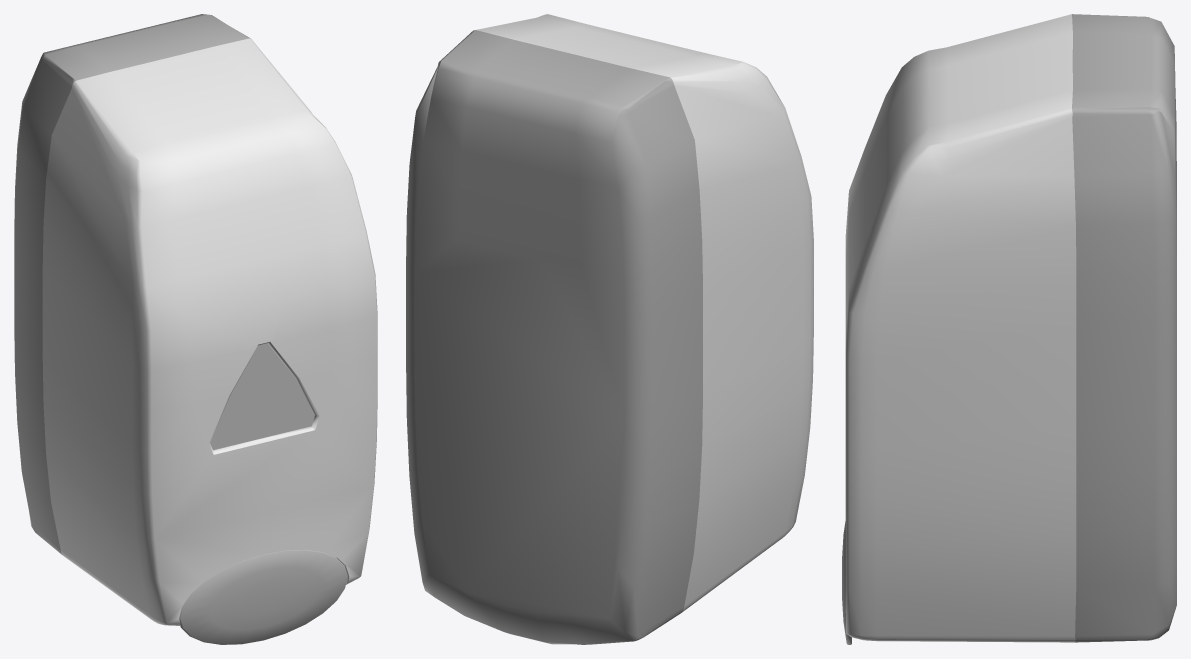
The model's file is SoapDispenser02.FBX.
3 renders of one model, left to right at view 1: azimuth 30°, elevation 25°; view 2: azimuth 150°, elevation 25°; view 3: azimuth 270°, elevation 25°, orthographic. The views are drawn at different scales.
Visible parts, largest first — view 1: SoapDispenser02; view 2: SoapDispenser02; view 3: SoapDispenser02.
Part boxes in pixels (box(x1,y1,x2,y2)): SoapDispenser02: box(14, 14, 377, 644); SoapDispenser02: box(406, 14, 813, 644); SoapDispenser02: box(842, 14, 1176, 644).
Bounding box in the file's own units: 18.59 × 38.16 × 20.47.
